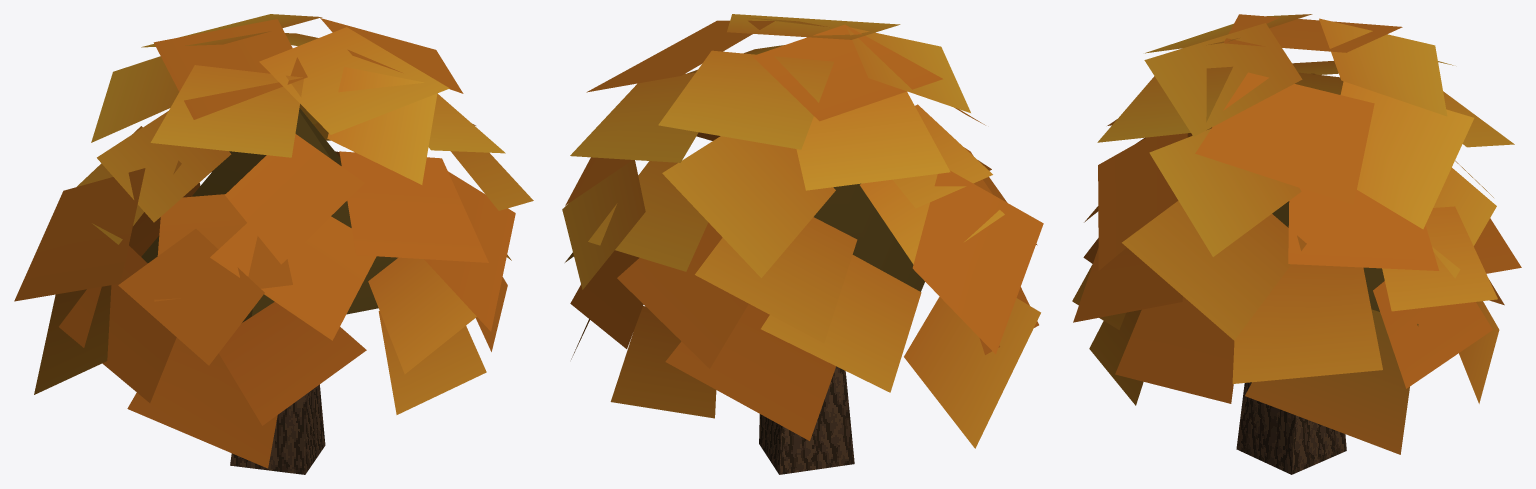
File: tree_far_a.glb
3 renders of one model, left to right at view 1: azimuth 30°, elevation 25°; view 2: azimuth 150°, elevation 25°; view 3: azimuth 270°, elevation 25°, orthographic.
Parts seen in each view (by area): view 1: tree_far_a; view 2: tree_far_a; view 3: tree_far_a.
Boxes of the visible parts, bbox=[...] form: tree_far_a: bbox=[14, 14, 533, 474]; tree_far_a: bbox=[562, 14, 1043, 474]; tree_far_a: bbox=[1072, 14, 1521, 474].
Size of the model in its own units: 7.36 by 6.4 by 6.31.
Materials: 2 (1 with a texture image).
